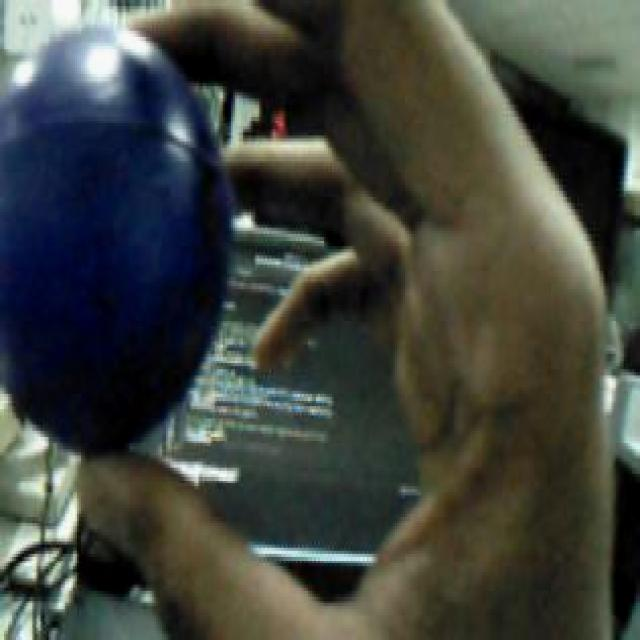BallPurple: (0, 23, 232, 449)
